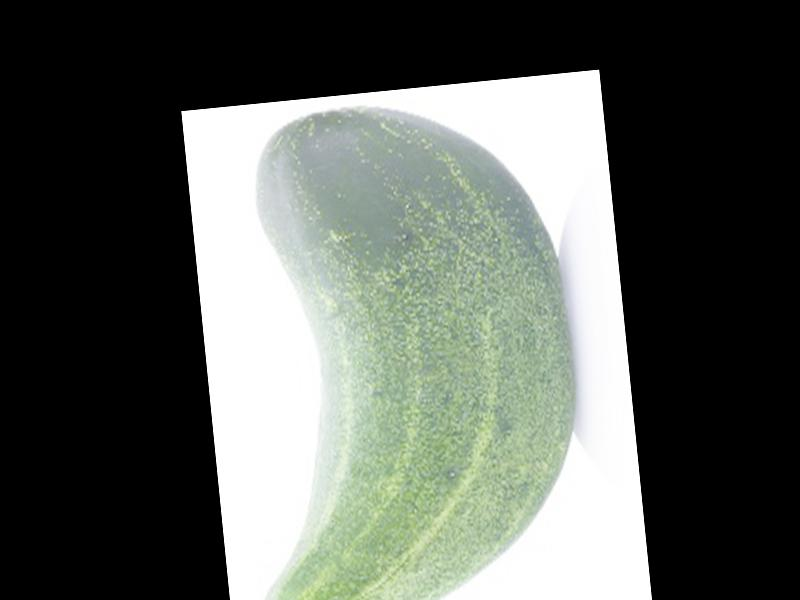Cucumber: (217, 87, 597, 600)
